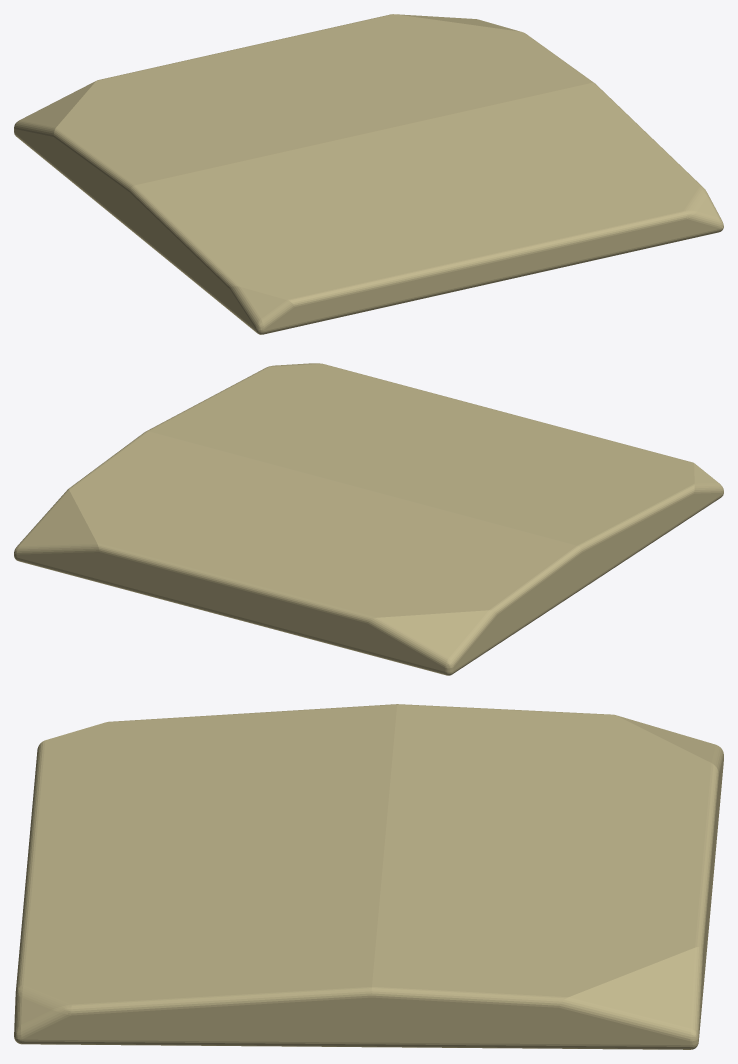
The model's file is Tile_high.fbx.
3 views of the same model, one above another, from view 1: azimuth 30°, elevation 25°; view 2: azimuth 150°, elevation 25°; view 3: azimuth 270°, elevation 25° (orthographic). The views are drawn at different scales.
Visible parts, largest first — view 1: Tile_high; view 2: Tile_high; view 3: Tile_high.
Part boxes in pixels (left/top/right/bottom): Tile_high: left=14, top=14, right=723, bottom=334; Tile_high: left=14, top=363, right=723, bottom=675; Tile_high: left=14, top=704, right=723, bottom=1049.
Bounding box in the file's own units: 70.4 × 6.89 × 70.4.
